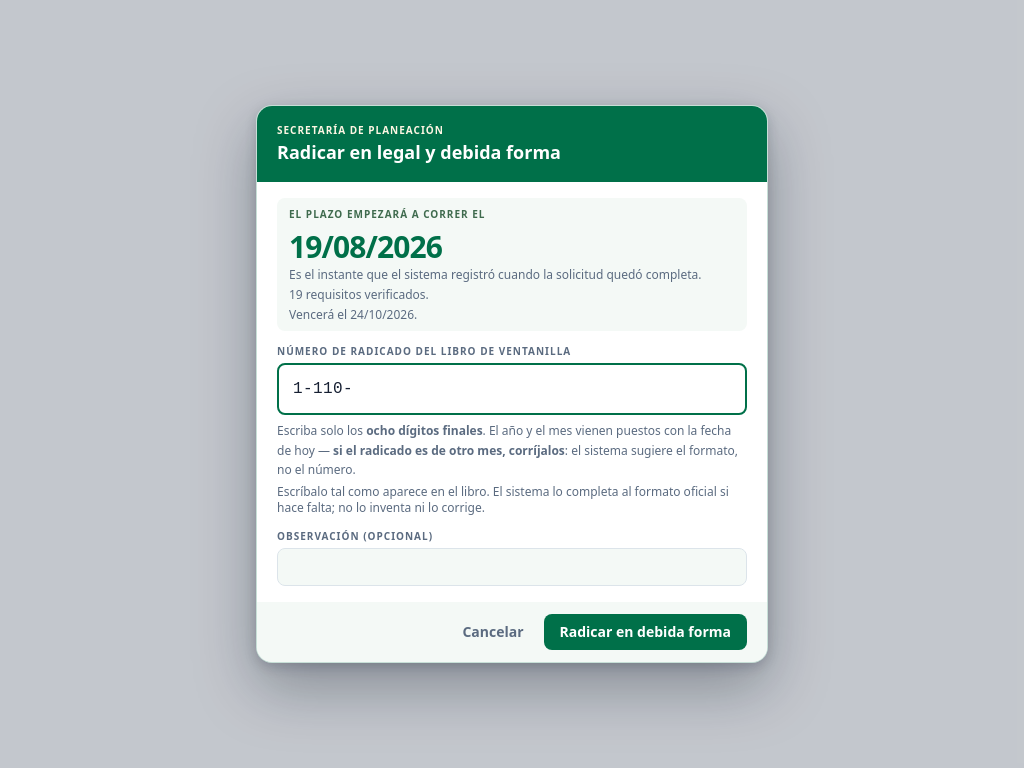
Test: el envío › si el número se normalizó, se lo ENSEÑA
Replace the text in the field labelled "Número de radicado del libro de ventanilla" with "123" at (512, 389), box [277,363,747,415]
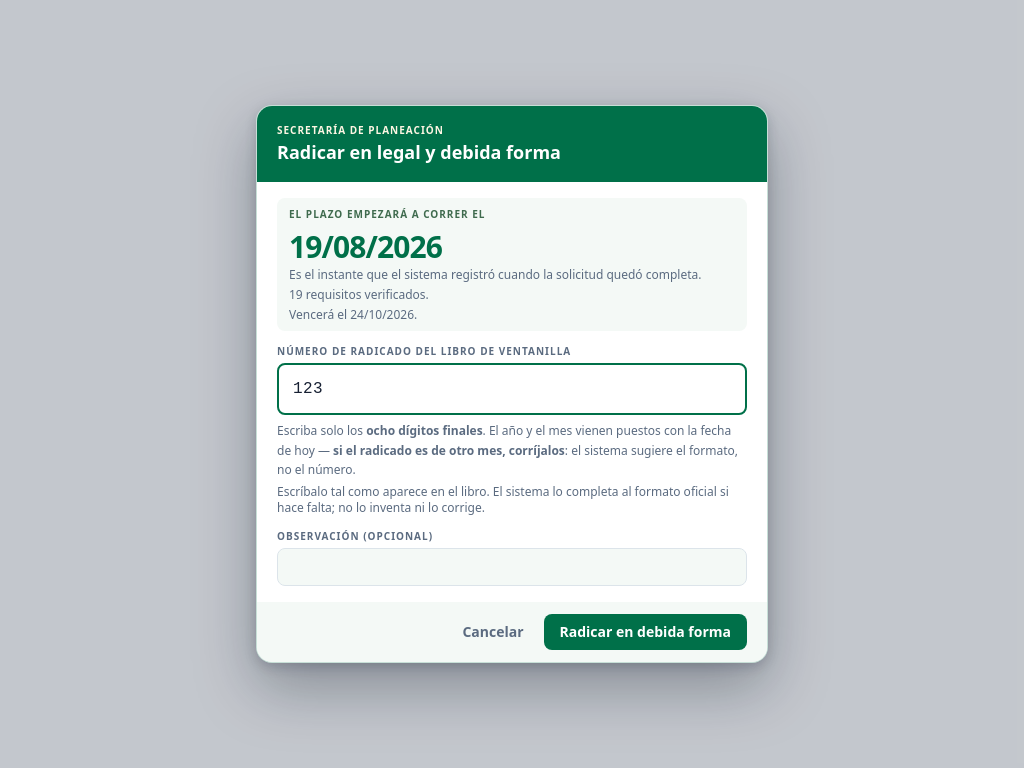
Click the button "Radicar en debida forma" at (645, 632), box [544,614,747,650]
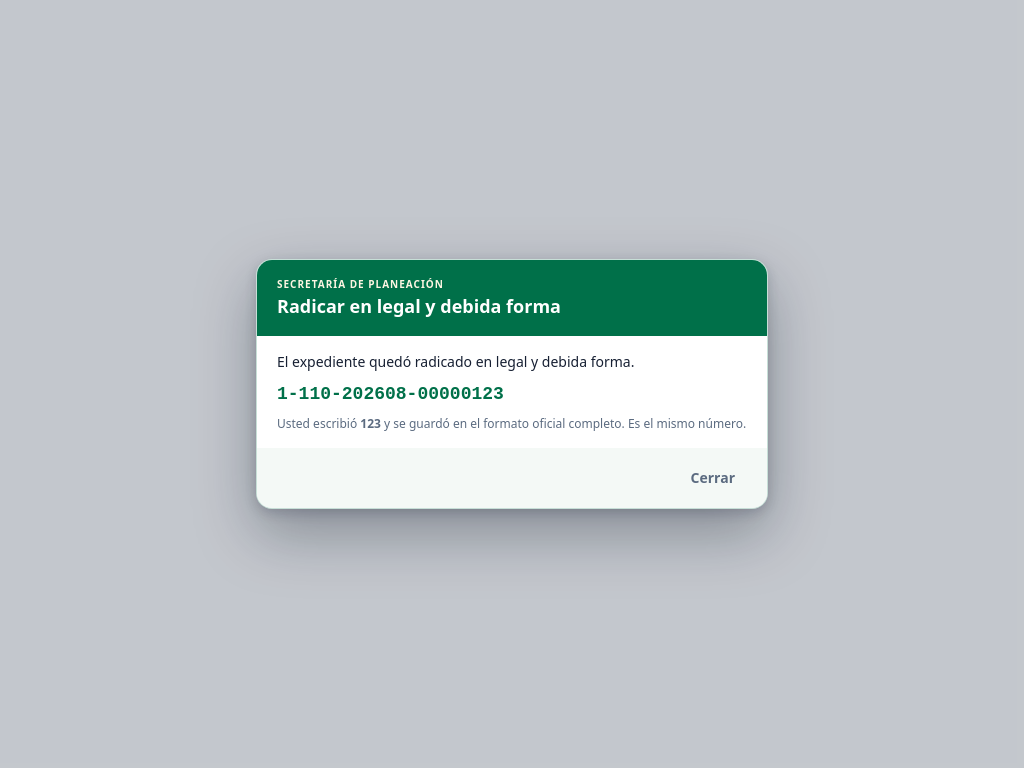
expect the text "es el mismo número" is shown: met, box [381,415,746,432]
expect the text "1-110-202608-00000123" is shown: met, box [277,384,504,404]
